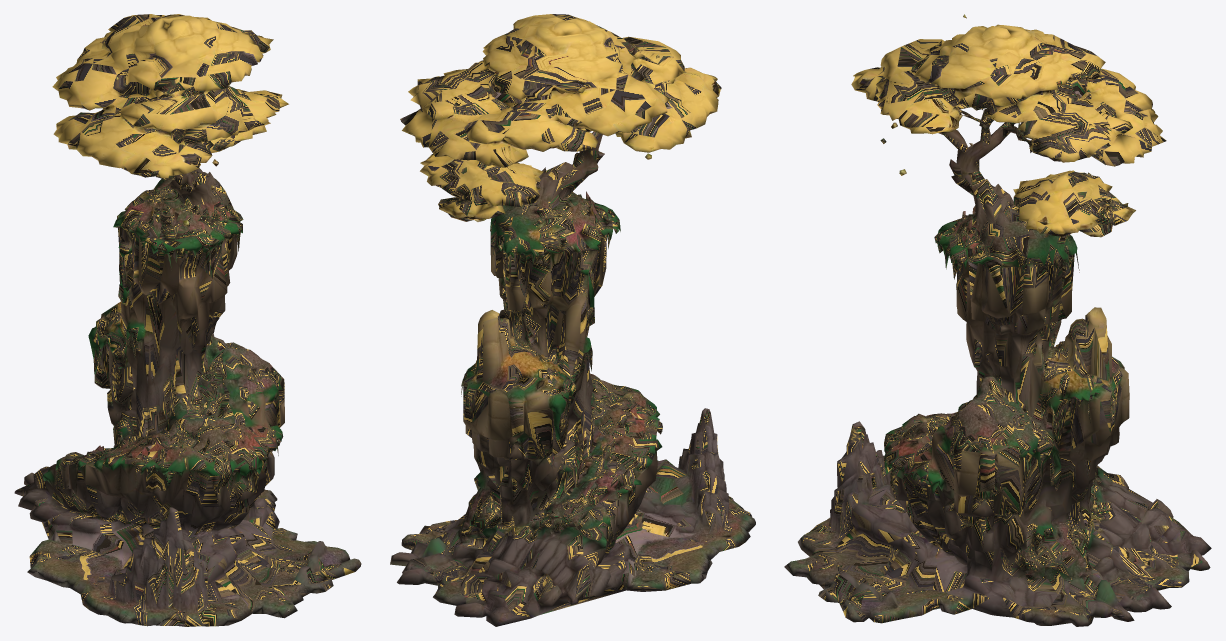
The model's file is Golden_Tree_of_the_Sk.glb.
3 views of the same model, side by side, from view 1: azimuth 30°, elevation 25°; view 2: azimuth 150°, elevation 25°; view 3: azimuth 270°, elevation 25° (orthographic). The views are drawn at different scales.
Visible parts, largest first — view 1: Golden_Tree_of_the_Sk; view 2: Golden_Tree_of_the_Sk; view 3: Golden_Tree_of_the_Sk.
Boxes of the visible parts, left/top/right/bottom form: Golden_Tree_of_the_Sk: left=14, top=14, right=361, bottom=626; Golden_Tree_of_the_Sk: left=390, top=14, right=755, bottom=626; Golden_Tree_of_the_Sk: left=784, top=14, right=1211, bottom=626.
Bounding box in the file's own units: 1.01 × 1.9 × 1.37.
Materials: 1 (1 with a texture image).
